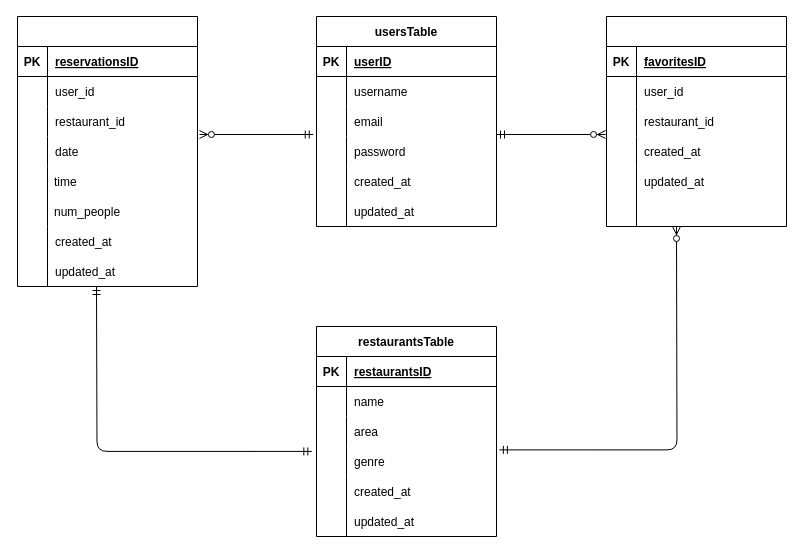
The diagram is 803 pixels wide and 553 high, and some of its shapes have lost their labels. The box of each missing label's shape, as (x1, y1, x2, y2) in pixels:
favoritesTable: (606, 16, 786, 226)
reservationsTable: (16, 16, 198, 286)
